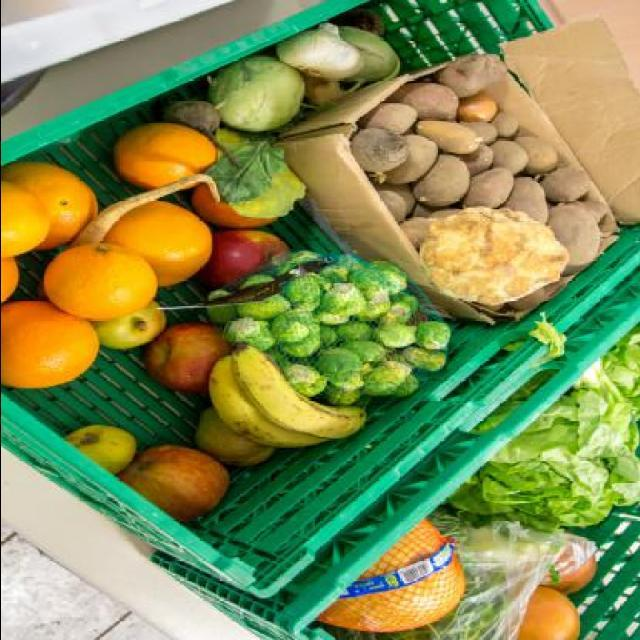Orange: (110, 200, 212, 289), (43, 243, 155, 323), (0, 298, 97, 389), (119, 124, 223, 190), (11, 160, 97, 237), (1, 182, 42, 262), (513, 592, 581, 640), (1, 252, 24, 296)
